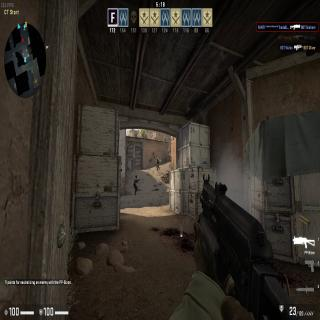CT-Body: (134, 175, 138, 194)
CT-Head: (135, 174, 137, 178)
T-Body: (156, 158, 159, 171)
T-Head: (157, 158, 158, 161)
